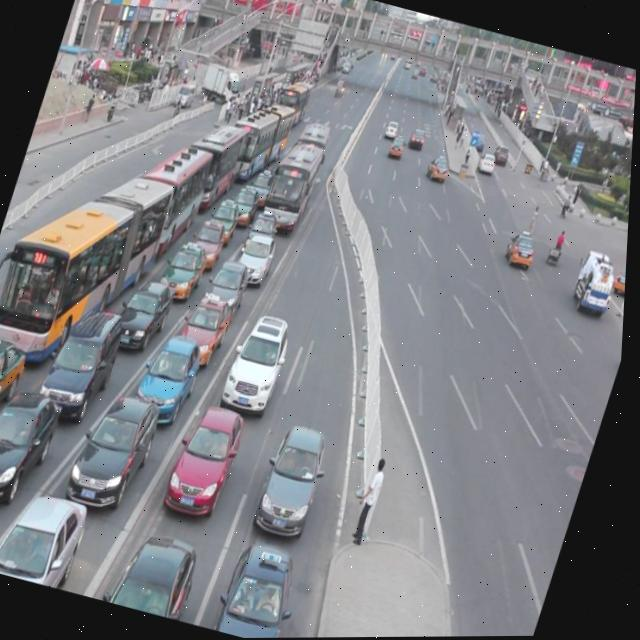bus: (567, 248, 624, 318)
car: (70, 380, 170, 507), (41, 294, 135, 416), (0, 477, 99, 590), (216, 533, 314, 639), (109, 521, 211, 621), (256, 415, 342, 531), (169, 396, 254, 508), (0, 375, 71, 500), (223, 304, 301, 409), (137, 324, 211, 417), (116, 267, 181, 347), (177, 284, 240, 361), (0, 323, 34, 433), (203, 251, 257, 317), (161, 232, 215, 295), (239, 224, 283, 280), (190, 208, 233, 262), (207, 190, 247, 238), (247, 200, 284, 248), (230, 174, 266, 219), (504, 227, 542, 269), (247, 158, 282, 202), (425, 152, 454, 182), (611, 256, 629, 303), (387, 133, 408, 161), (477, 151, 498, 176), (492, 142, 512, 166), (408, 126, 427, 148), (382, 120, 401, 141)
van: (0, 141, 181, 375), (121, 127, 220, 255), (224, 84, 299, 178), (260, 133, 327, 232), (183, 110, 251, 205), (289, 117, 337, 182)
